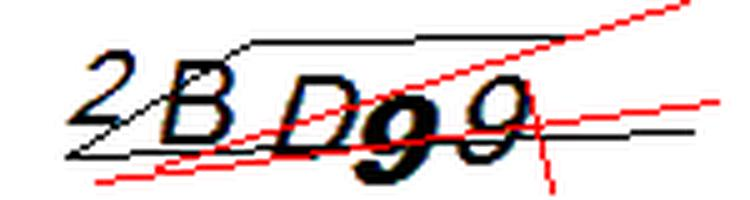2: (59, 42, 148, 135)
9: (347, 91, 443, 191), (448, 72, 545, 169)
B: (152, 49, 256, 152)
D: (264, 68, 362, 166)
